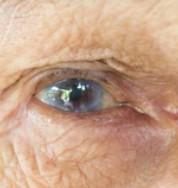eye: (48, 78, 104, 114)
